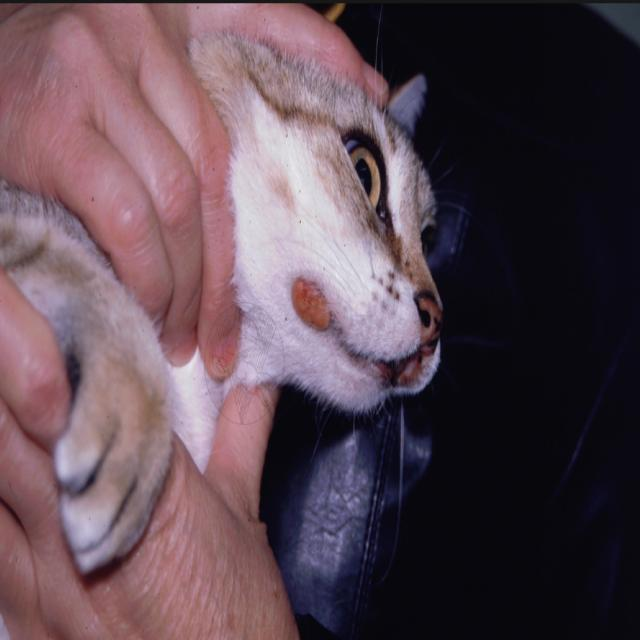cat-lump-and-bump: (285, 260, 340, 346)
